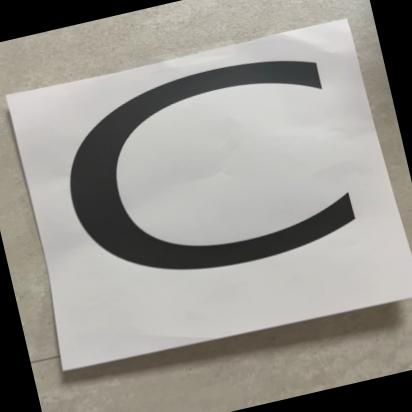seat: (15, 8, 412, 369)
